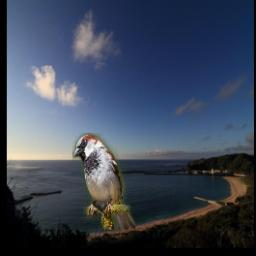Sparrow: (73, 133, 136, 230)
